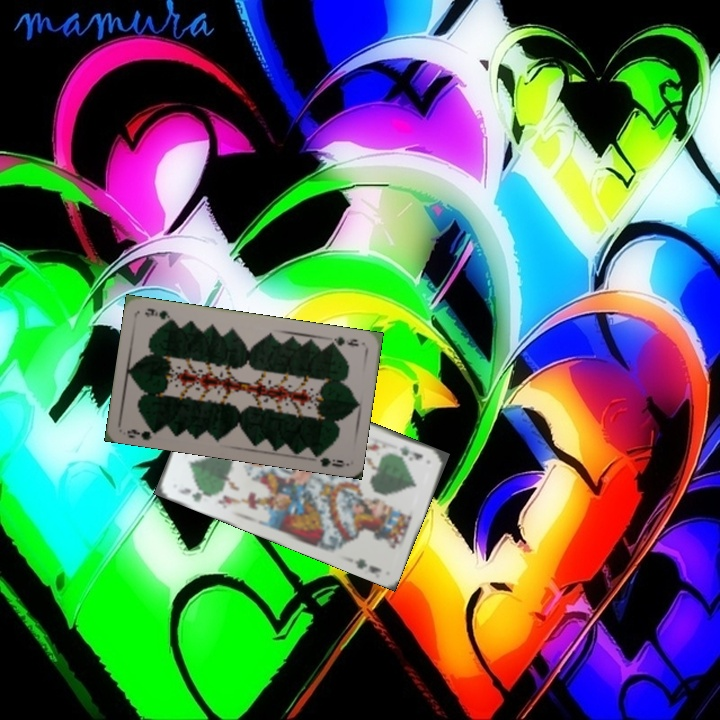G9: (123, 423, 162, 443), (324, 333, 361, 349)
GK: (174, 484, 213, 504), (396, 441, 425, 463)
